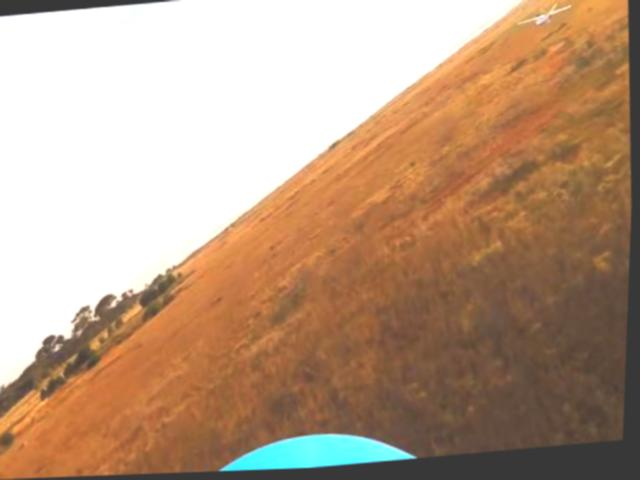uav: (515, 2, 580, 36)
